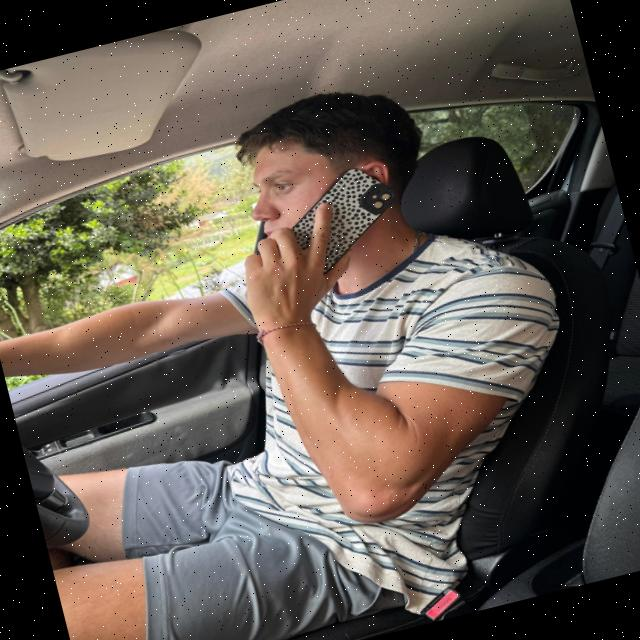Phone: (240, 154, 418, 309)
